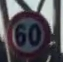limite 60: (4, 6, 53, 61)
